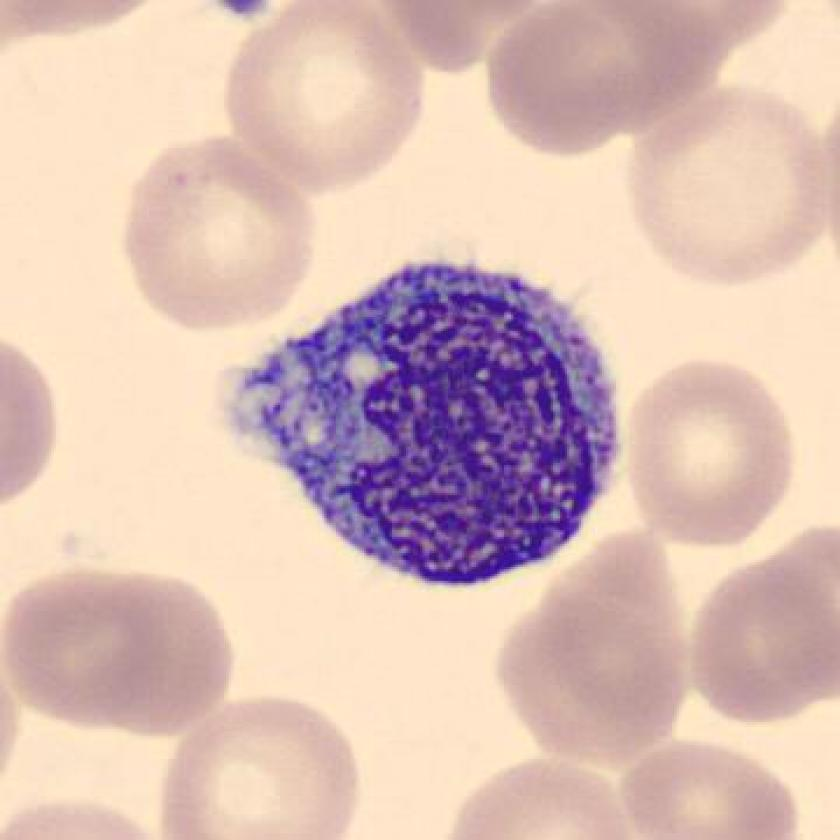monocyte: (216, 235, 636, 617)
